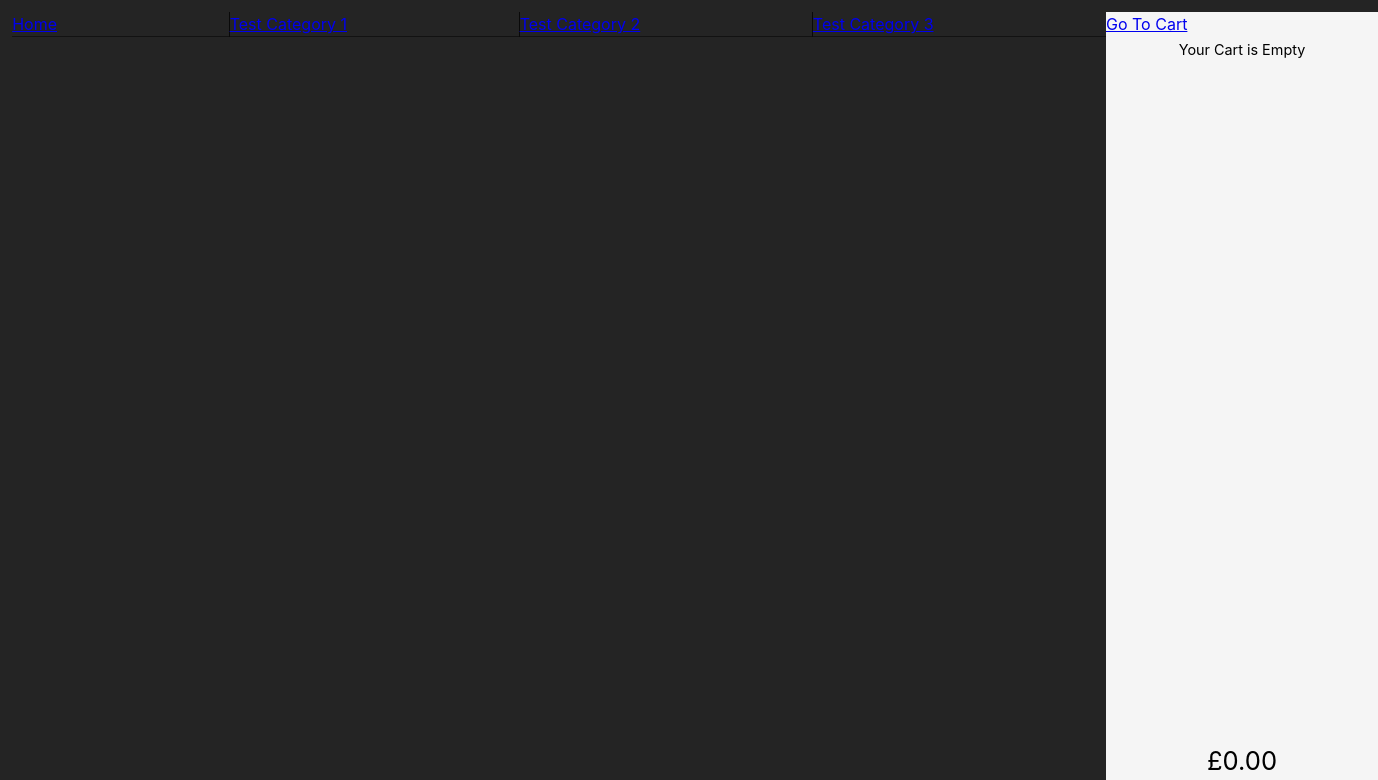
Test: UI/DOM testing... › On the '/shop' route... › The ShopItemCard components... › The CardSidebarItemCard components should be removed from the            cart when the 'Remove From Cart button is clicked
Click the link "test category 1" at x=288, y=24, box [229, 11, 520, 37]
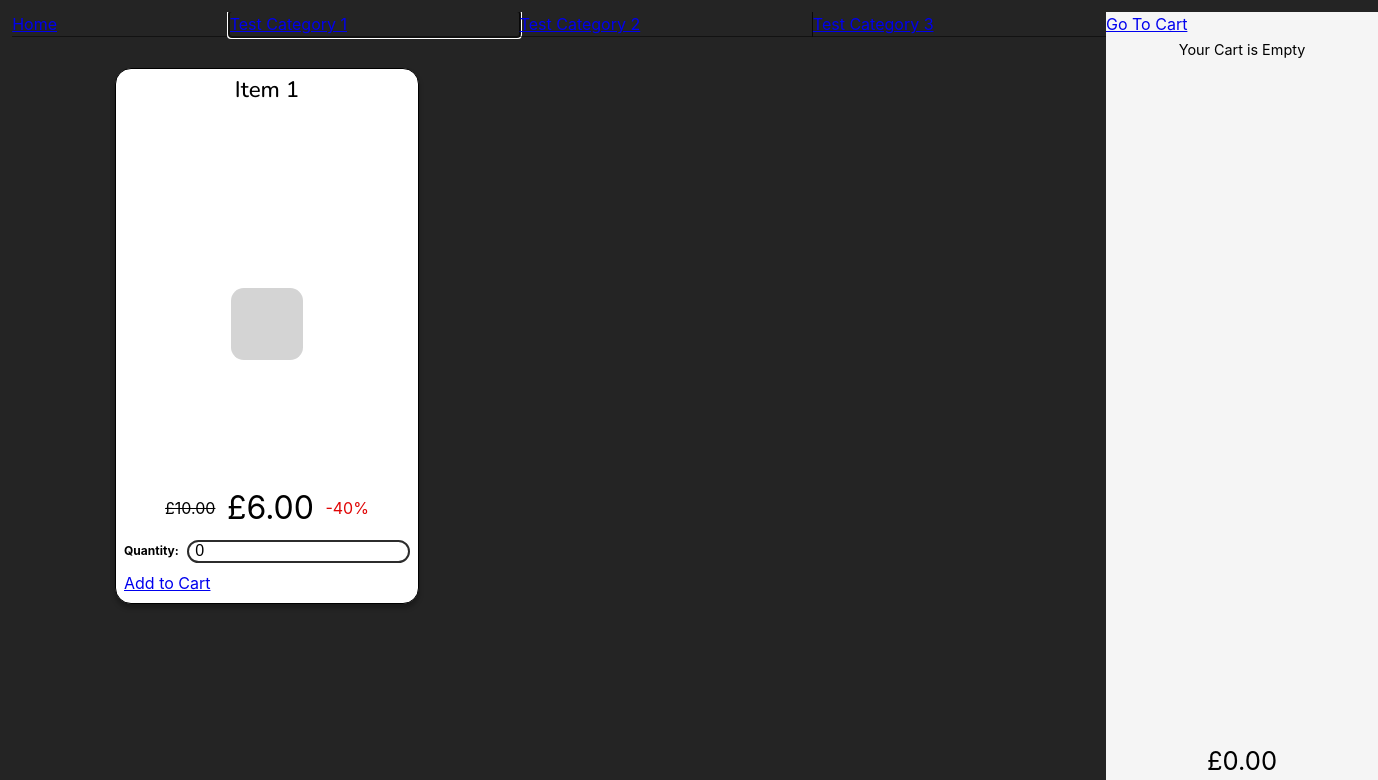
Type "5" into the number field labelled "Quantity:" at x=298, y=551, box [187, 540, 410, 563]
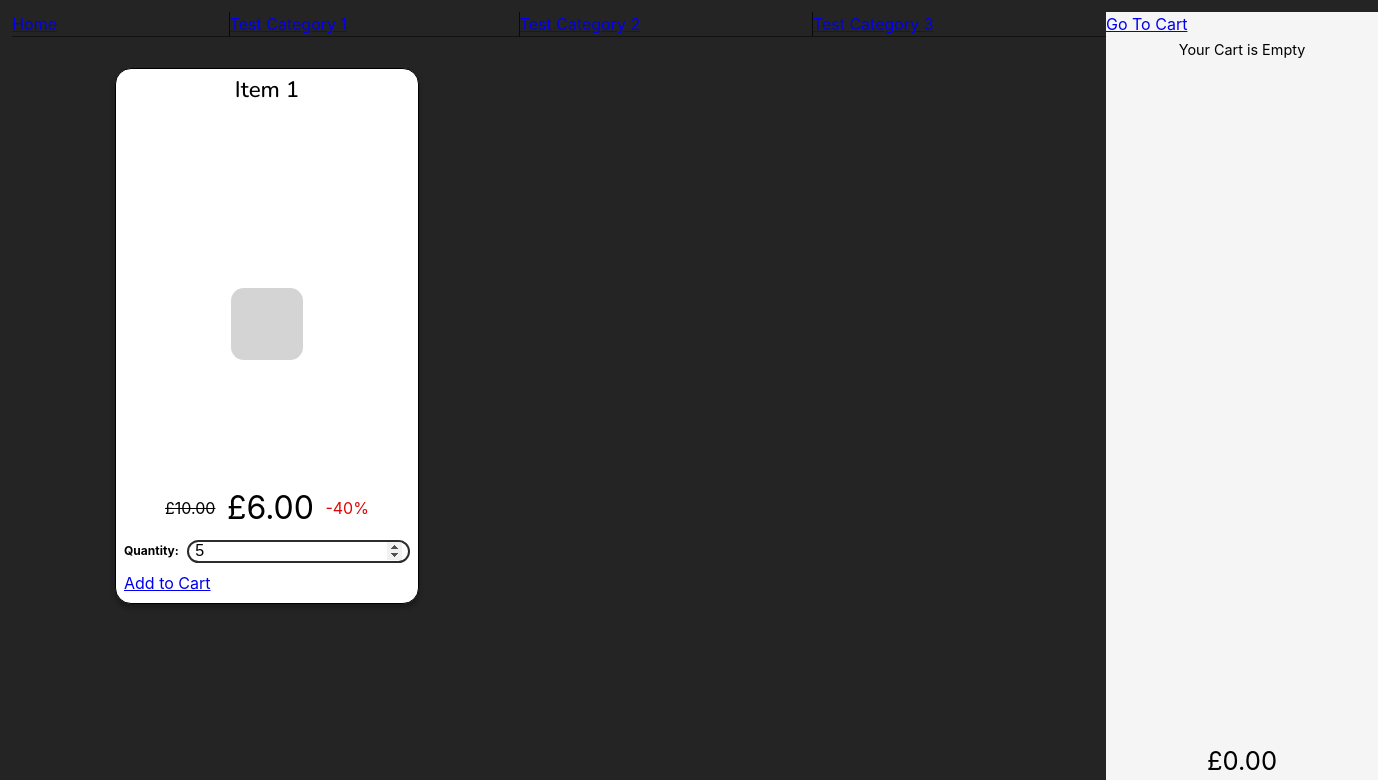
Click the link "Add to Cart" at x=167, y=583, box [124, 573, 210, 593]
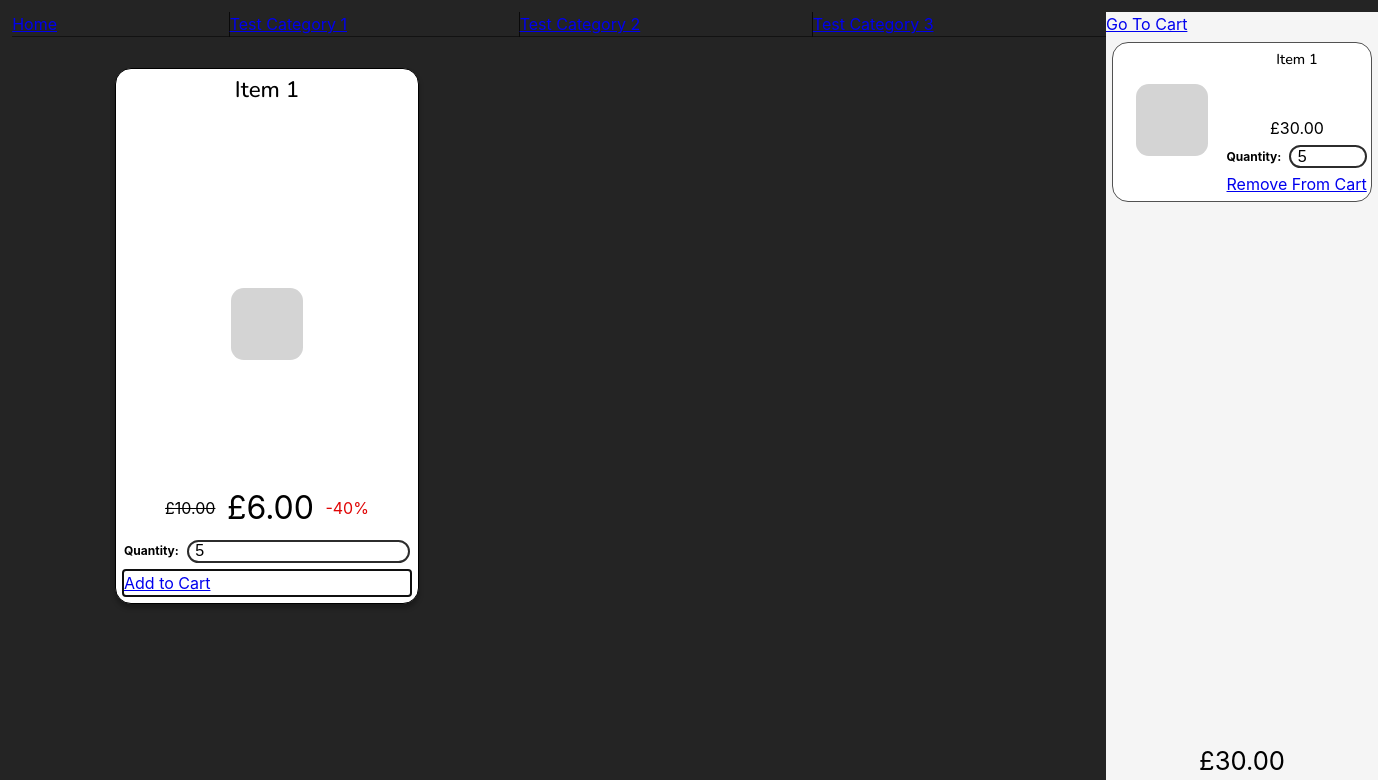
Click the link "Remove From Cart" at x=1297, y=184, box [1226, 172, 1367, 196]
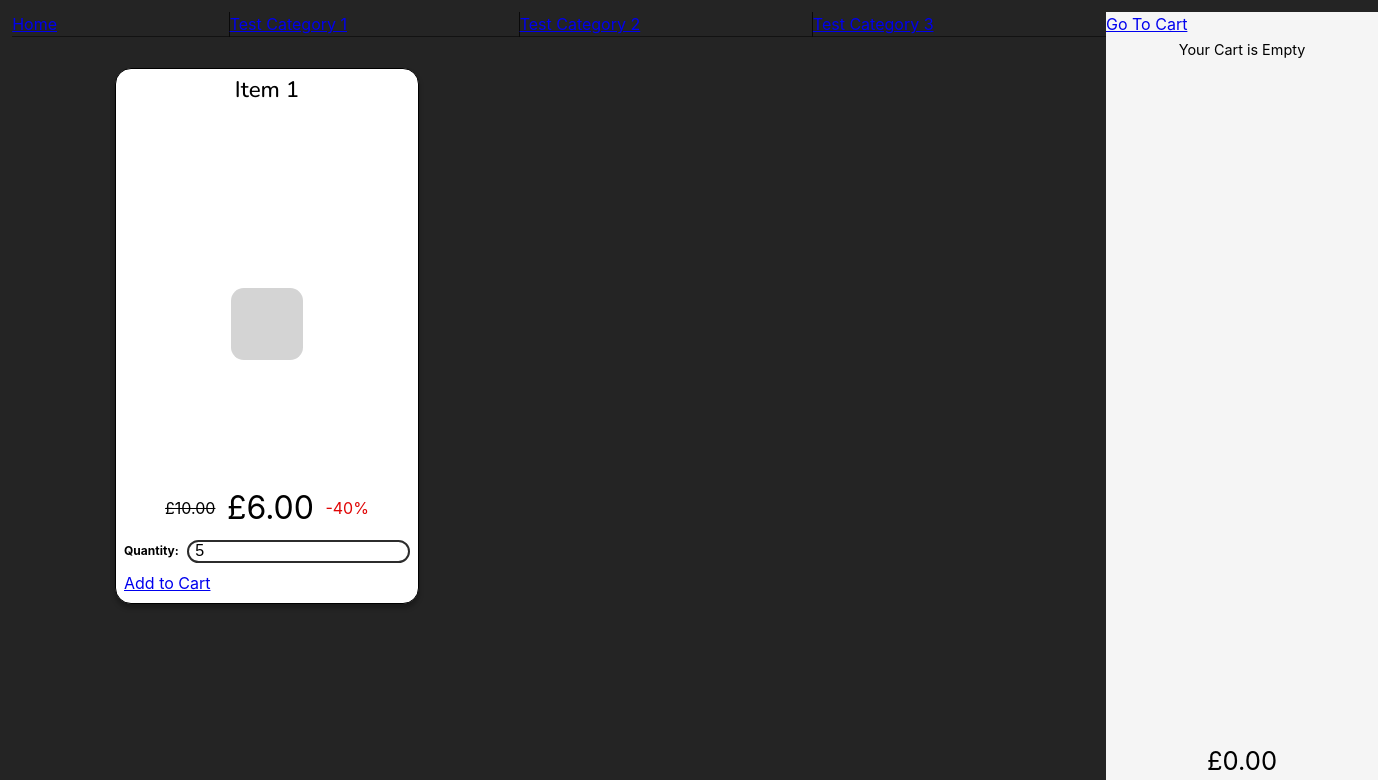
Check: the heading "Your Cart is Empty" is shown, box [1179, 41, 1305, 58]
